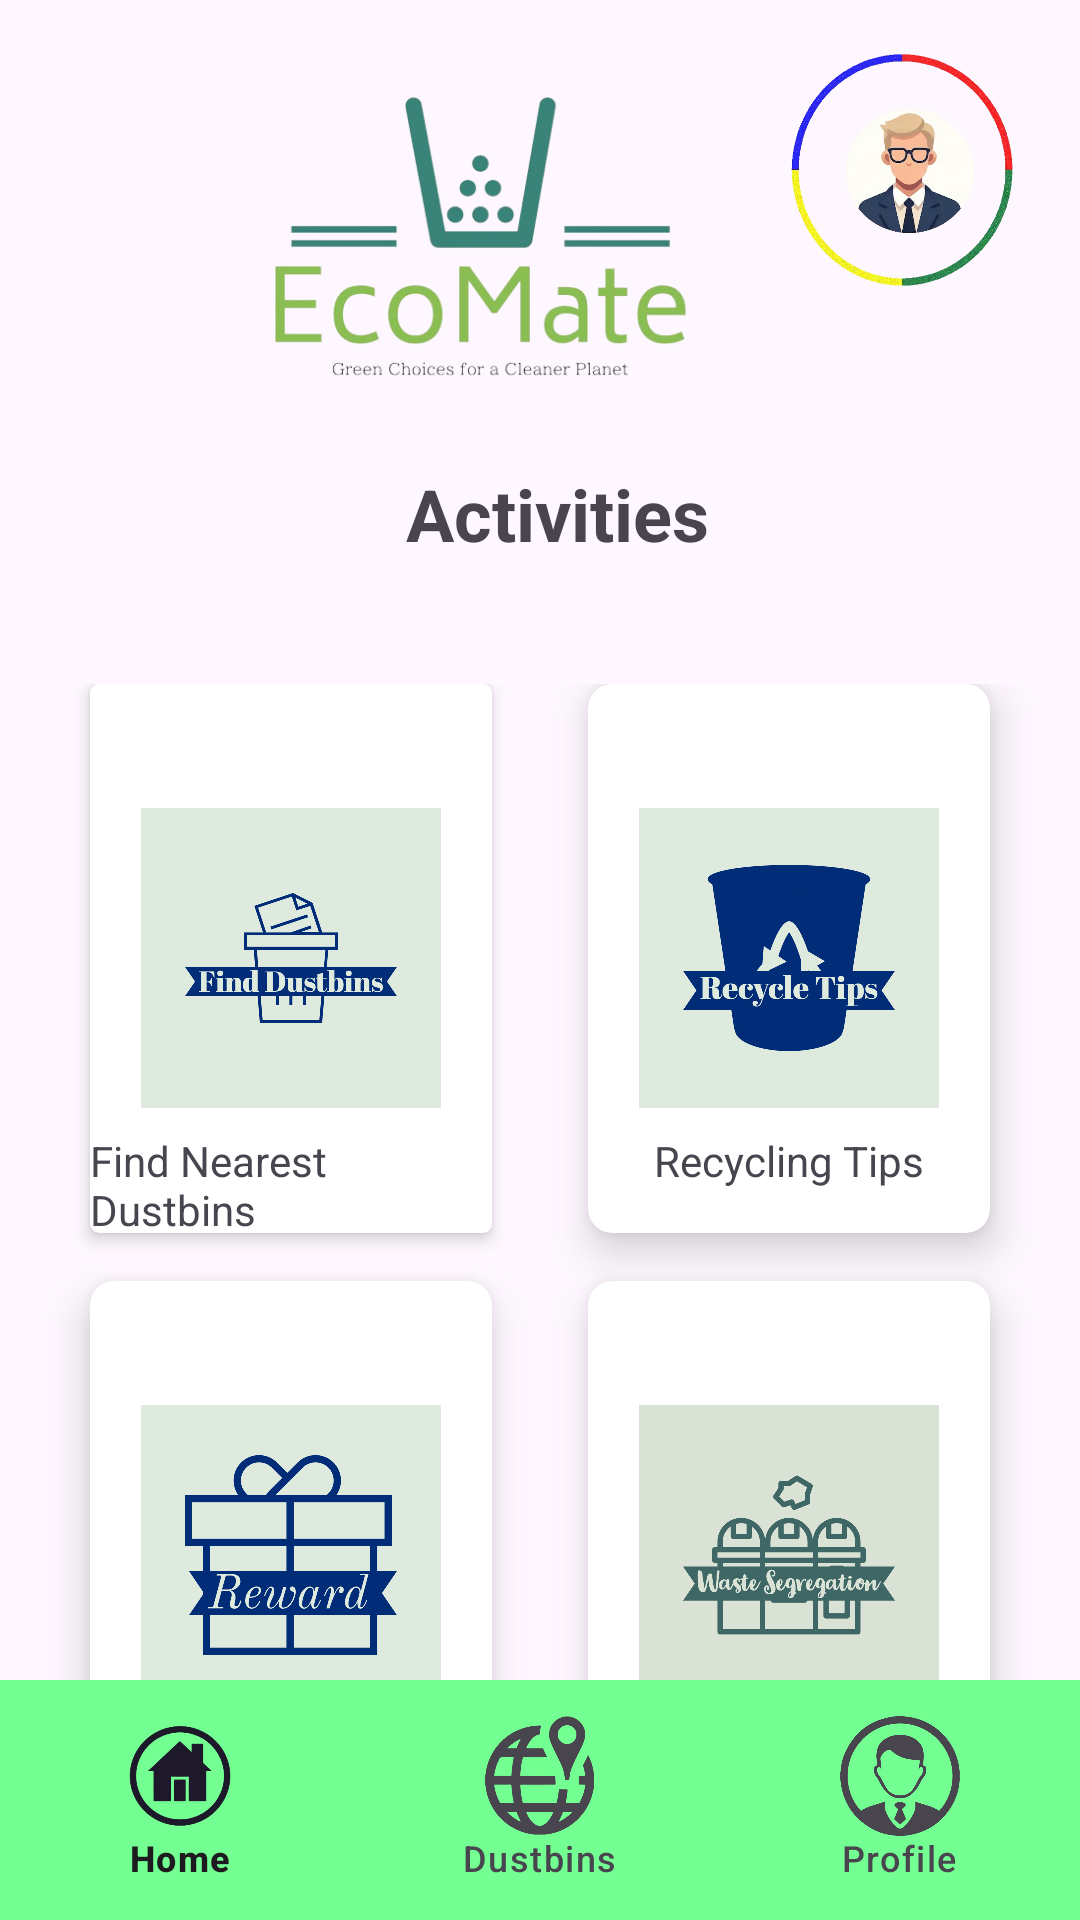

Locate icon controls on the screen. Image size 1080×1920, boxes as detection(x1, y1, x2, y2).
person: detection(791, 54, 1013, 286)
